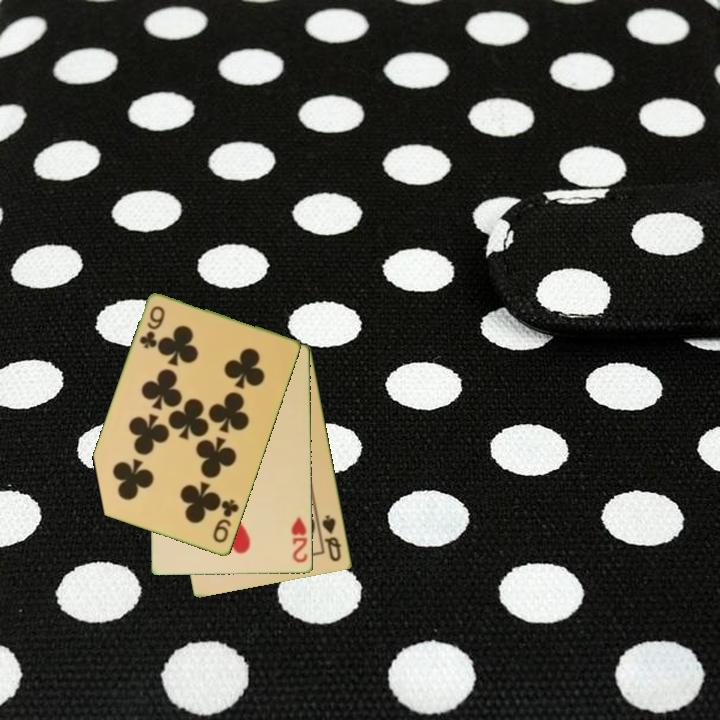2h: (288, 514, 310, 566)
9c: (209, 496, 242, 546), (136, 302, 168, 352)
Qs: (319, 511, 345, 565)
